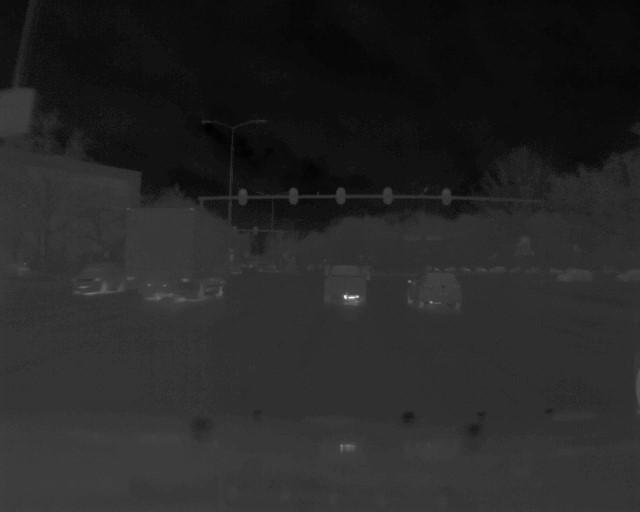car: (122, 204, 234, 302), (405, 268, 462, 309), (317, 263, 369, 307), (72, 260, 125, 296)
